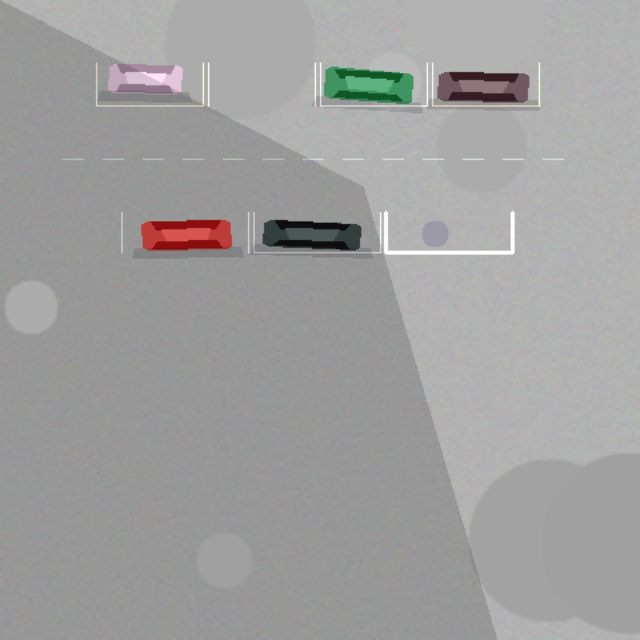space-empty: (385, 212, 512, 252), (208, 63, 315, 105)
space-occupied: (121, 212, 248, 252), (253, 212, 380, 252), (96, 63, 203, 105), (320, 63, 427, 105), (432, 63, 539, 105)
